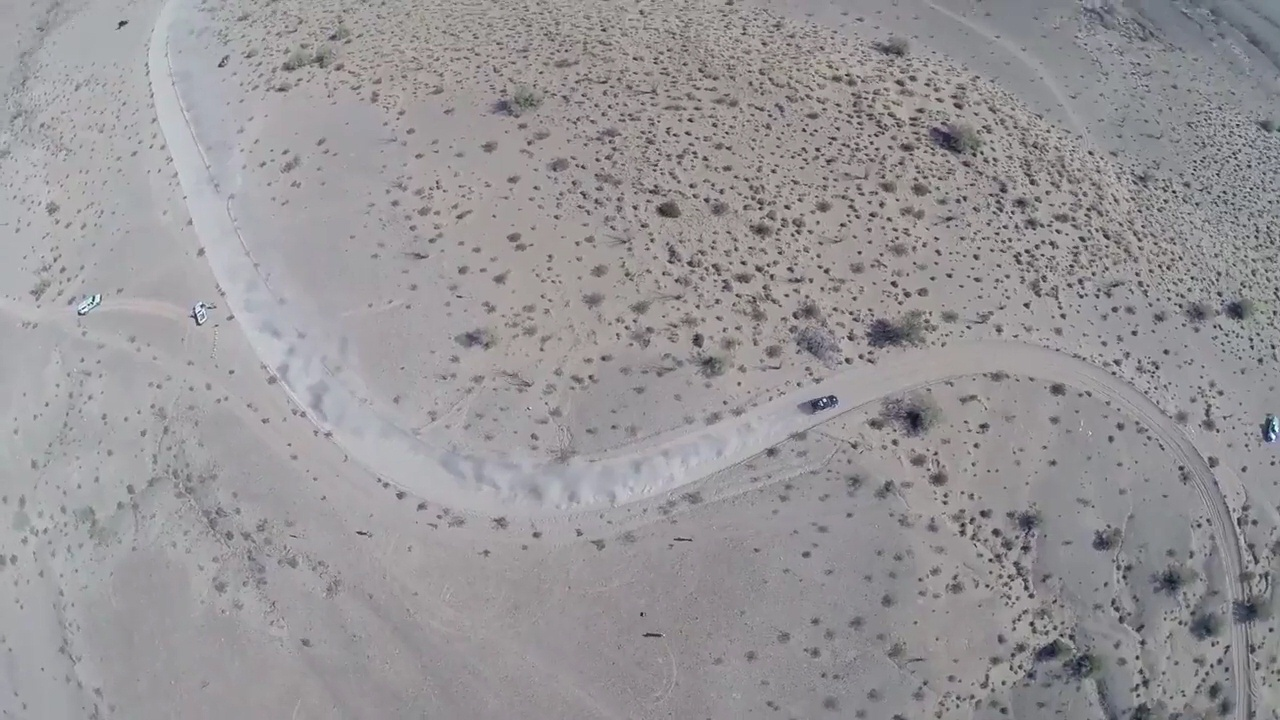araba: (810, 392, 838, 414), (76, 296, 106, 315)
kamyonet: (192, 296, 211, 328)
